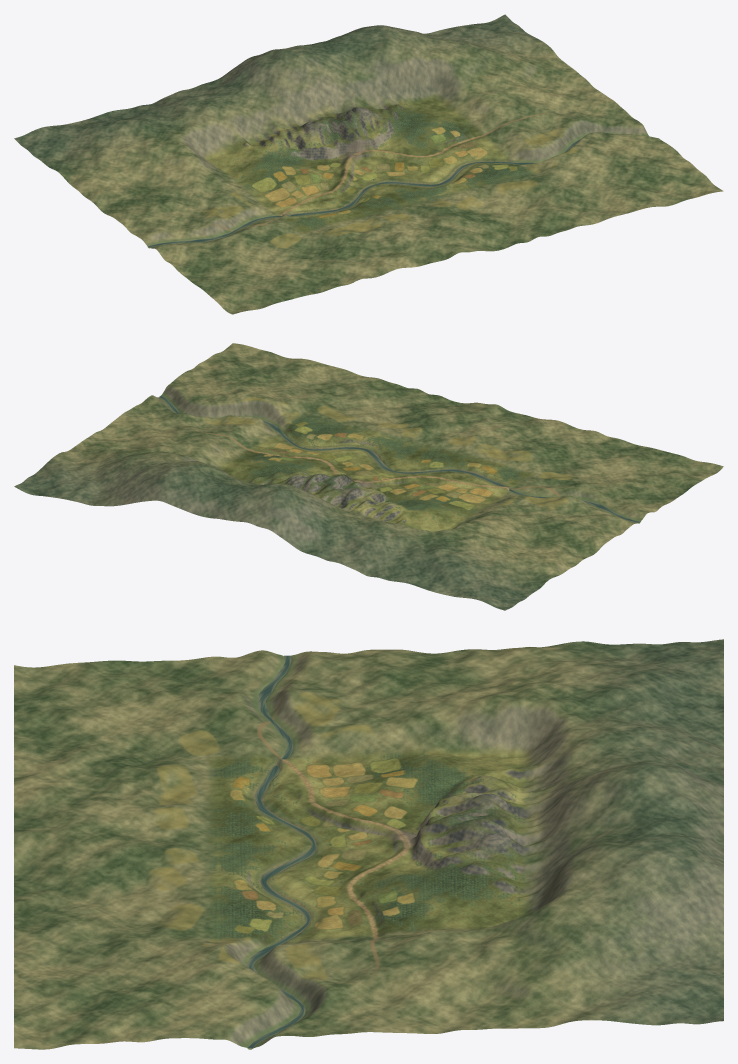
Rendered from marches-corridor.glb.
3 views of the same model, one above another, from view 1: azimuth 30°, elevation 25°; view 2: azimuth 150°, elevation 25°; view 3: azimuth 270°, elevation 25° (orthographic). The views are drawn at different scales.
Parts seen in each view (by area): view 1: MarchesVista, MarchesGround, MarchesRiver; view 2: MarchesVista, MarchesGround, MarchesRiver; view 3: MarchesVista, MarchesGround, MarchesRiver, MarchesVistaWaterWest, MarchesVistaWaterEast.
Boxes of the visible parts, x1,y1,x2,y2 form: MarchesVista: (14, 14, 723, 314); MarchesGround: (211, 100, 526, 229); MarchesRiver: (290, 161, 508, 216); MarchesVista: (14, 343, 723, 610); MarchesGround: (223, 418, 526, 531); MarchesRiver: (282, 435, 504, 486); MarchesVista: (14, 639, 723, 1049); MarchesGround: (219, 753, 518, 941); MarchesRiver: (255, 765, 316, 941); MarchesVistaWaterWest: (258, 655, 293, 759); MarchesVistaWaterEast: (247, 942, 305, 1047).
Bounding box in the file's own units: 1840 × 220 × 1420.
Materials: 3 (3 with a texture image).
